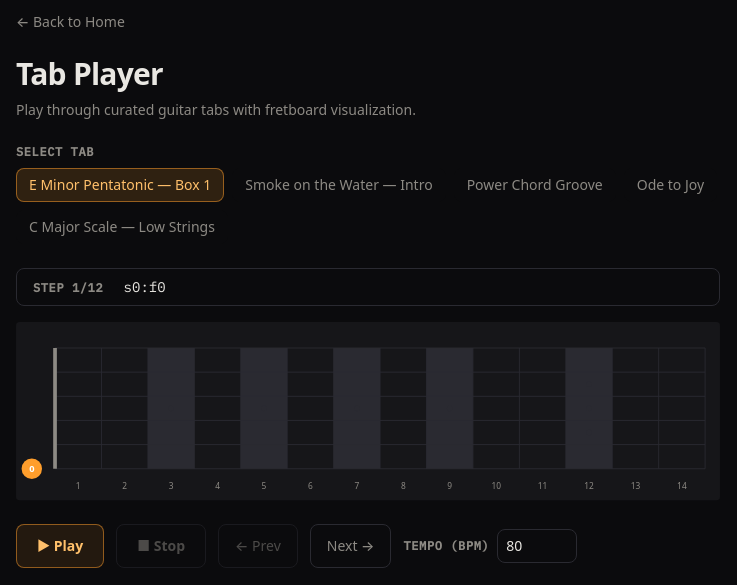
it: TabPlayer — Group G: Next/Prev while stopped › Next/Prev buttons are disabled while playing
Click the button "▶ Play": point(60, 546) [16,524,104,568]
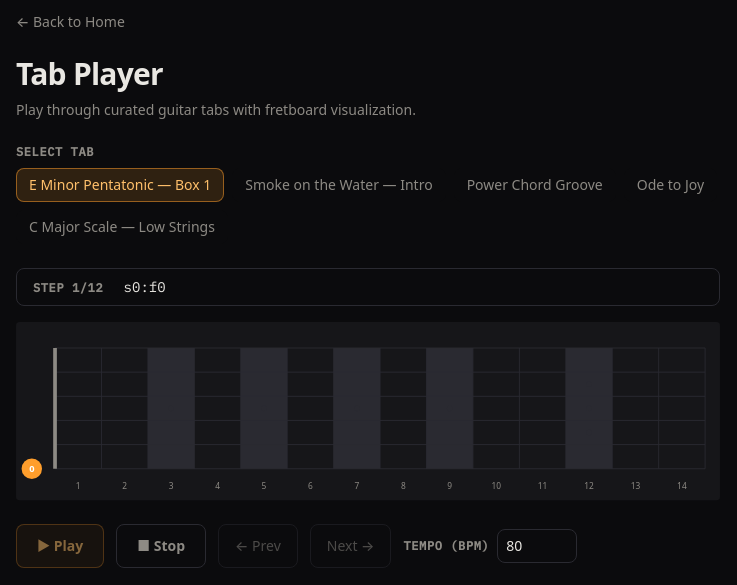
Expected: the button "← Prev" is disabled, [218,524,298,568]
Result: the button "Next →" is disabled at [310,524,392,568]
